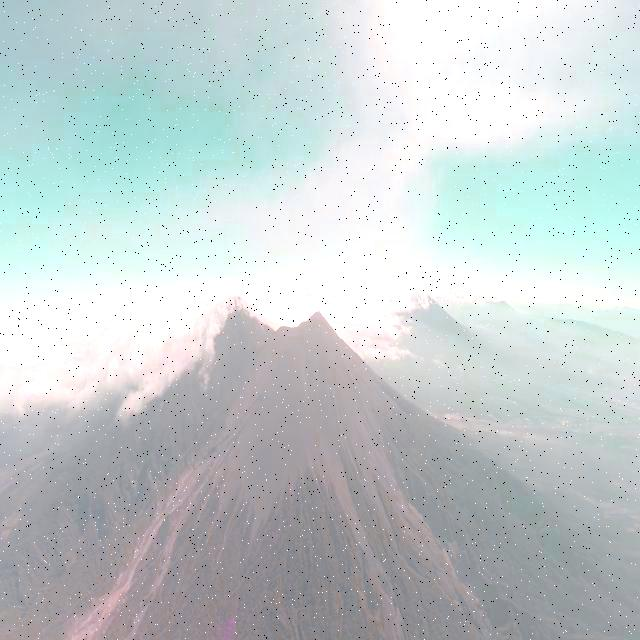Summit: (298, 309, 332, 333)
